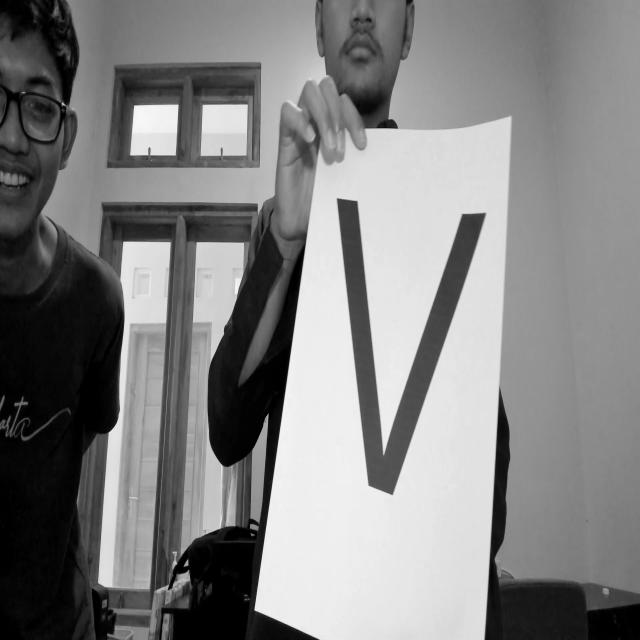v: (319, 158, 496, 523)
